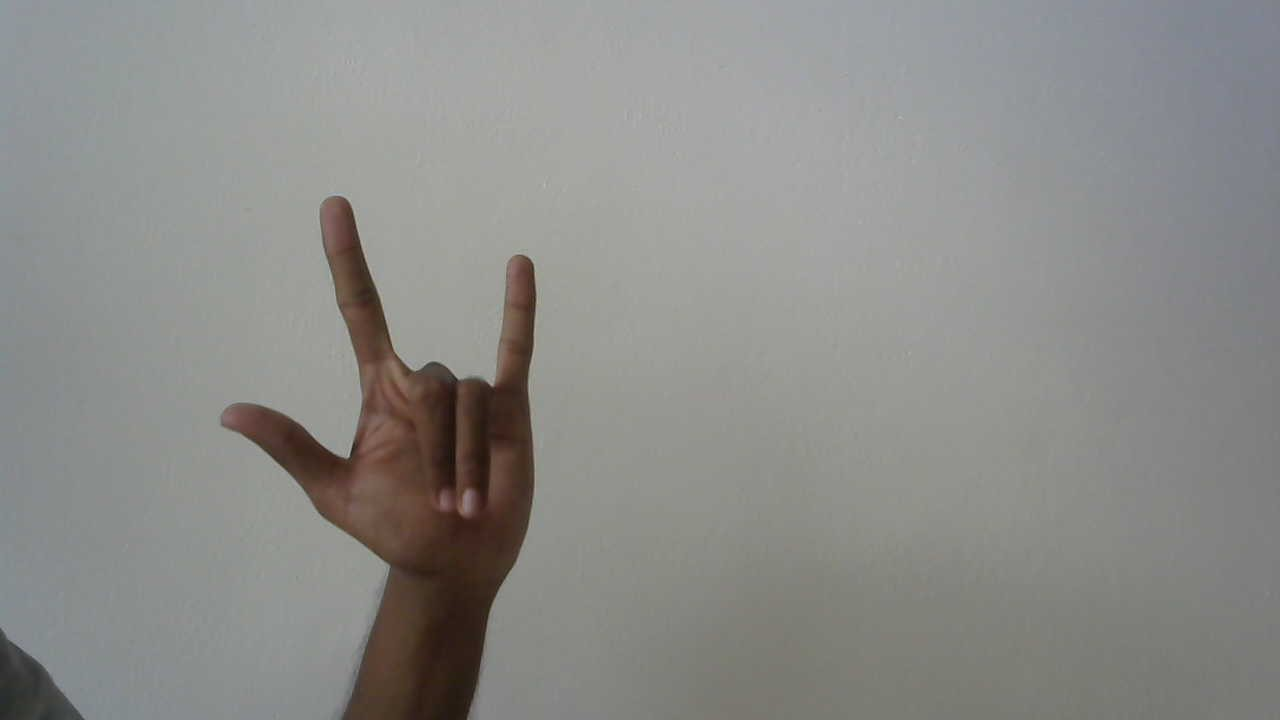iloveyou: (211, 186, 545, 601)
